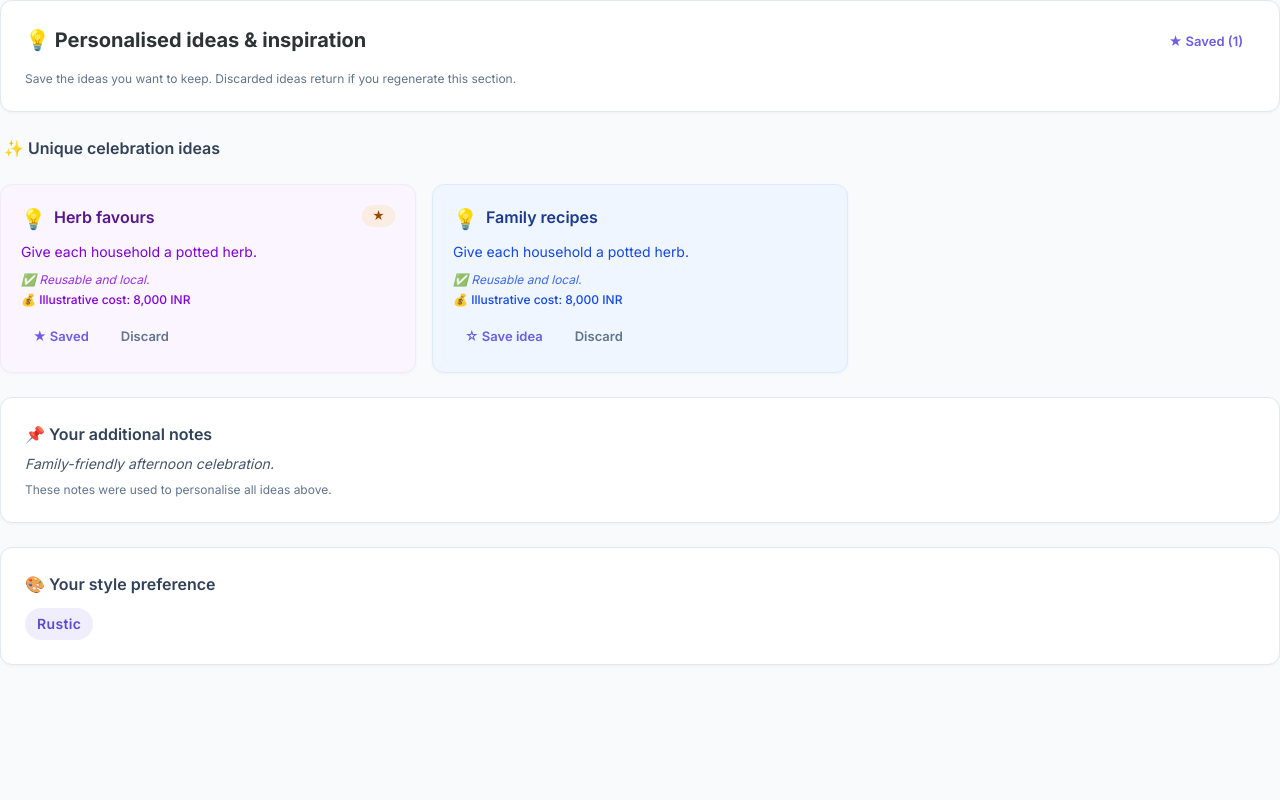
it: IdeasPanel › filters to saved ideas only
Click the button "★ Saved (1)".
click(1206, 41)  # box [1157,25,1255,57]
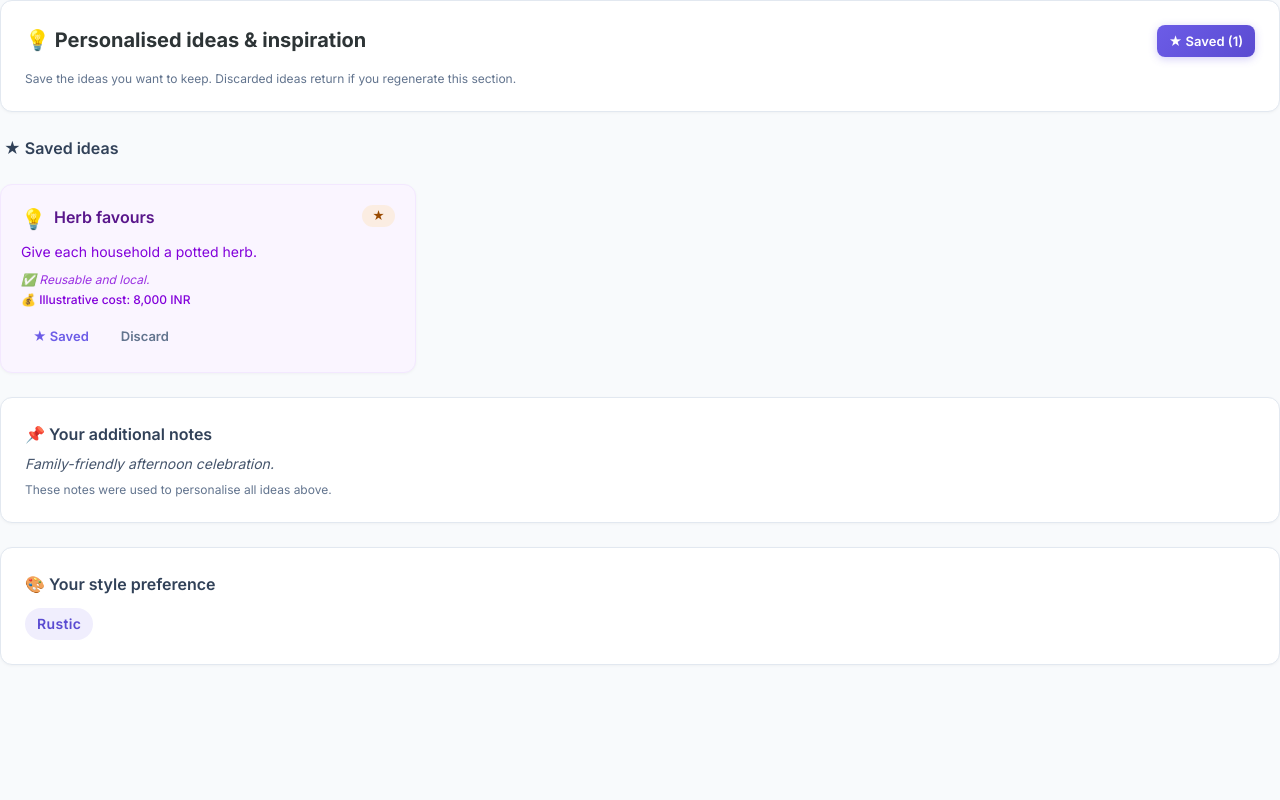
Check: the heading "Herb favours" is shown, box [54,205,155,229]
Check: the heading "Family recipes" is gone
